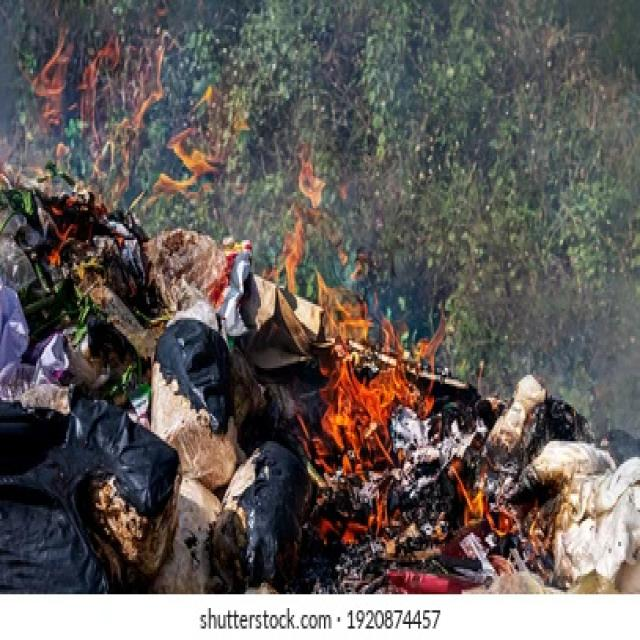fire: (294, 270, 447, 483), (88, 5, 175, 213), (145, 84, 251, 202), (262, 141, 326, 293), (46, 187, 125, 273), (448, 460, 522, 538), (76, 33, 122, 153), (313, 491, 400, 545), (30, 27, 74, 129), (205, 239, 252, 309), (327, 217, 369, 284)
